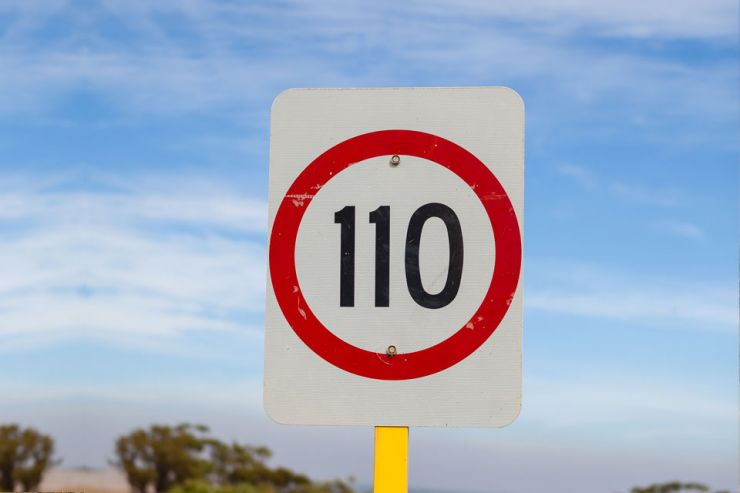Speed_limit_110km: (267, 129, 523, 380)
